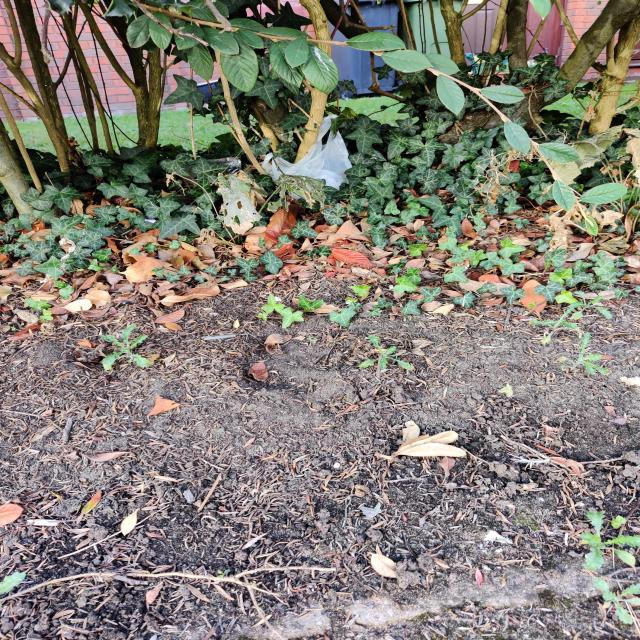litter: (259, 110, 350, 184)
